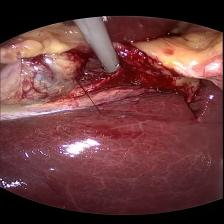Irrigator: (93, 52, 127, 74)
